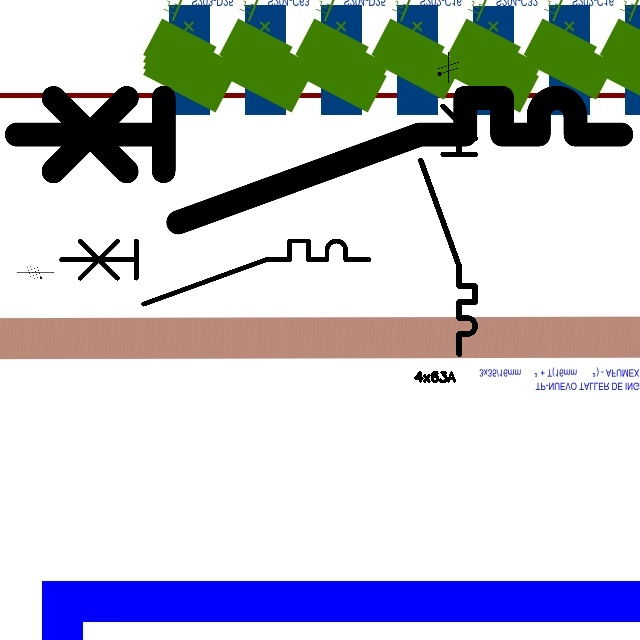interruptor_termomagnetico: (1, 82, 637, 237), (53, 233, 377, 312), (414, 83, 482, 361)
